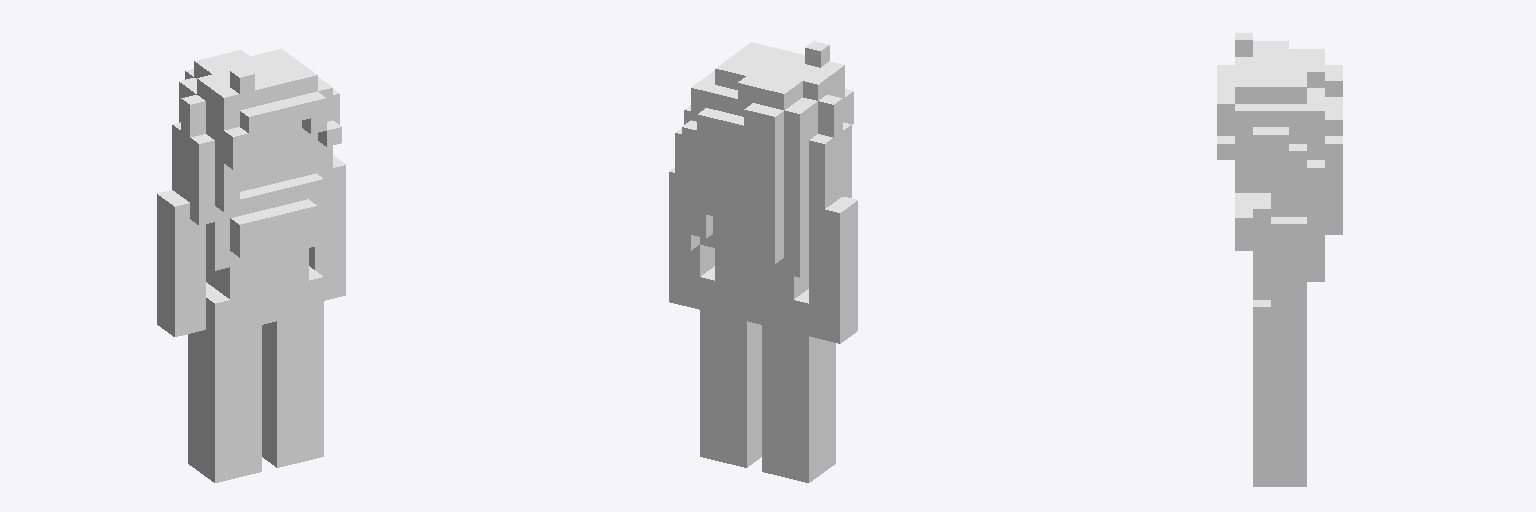
File: jESSICA.obj
3 views of the same model, side by side, from view 1: azimuth 30°, elevation 25°; view 2: azimuth 150°, elevation 25°; view 3: azimuth 270°, elevation 25° (orthographic).
Parts seen in each view (by area): view 1: object 1; view 2: object 1; view 3: object 1.
Boxes of the visible parts, <box> form: object 1: <box>157,49,345,482</box>; object 1: <box>669,41,857,482</box>; object 1: <box>1217,33,1342,486</box>.
Size of the model in its own units: 1.1 by 2.5 by 0.7.